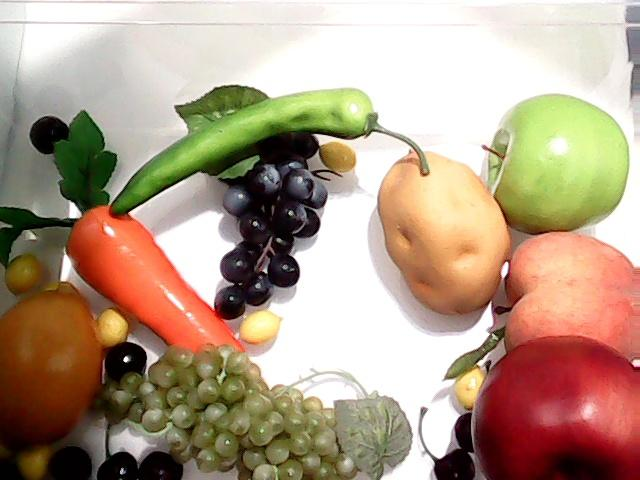apple: (456, 327, 640, 477), (476, 92, 640, 240)
carrot: (4, 113, 248, 357)
grape: (102, 348, 414, 480), (170, 82, 330, 320)
lemon: (0, 280, 112, 456)
peach: (492, 231, 640, 365)
pepper: (104, 80, 432, 228)
potato: (374, 145, 514, 315)
